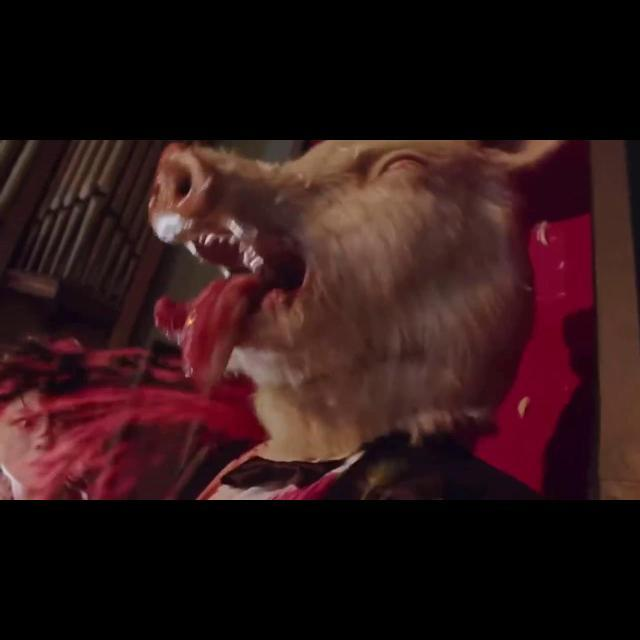blood: (0, 220, 364, 500)
